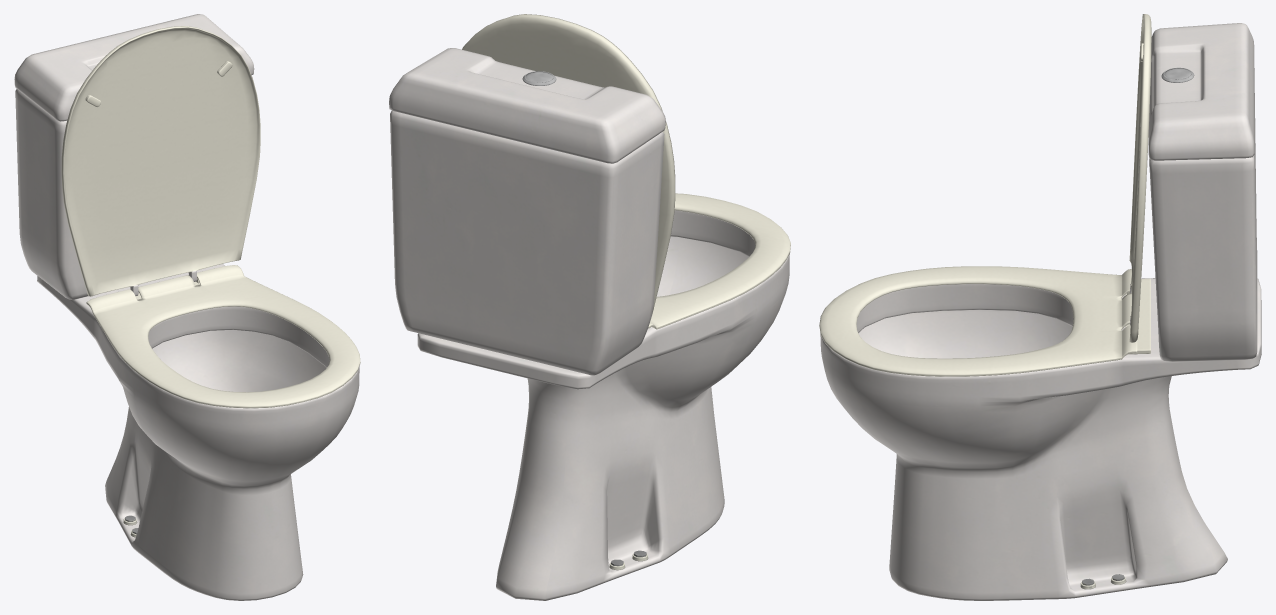
The model's file is toilet.glb.
The picture shows the model from 3 angles, left to right: view 1: azimuth 30°, elevation 25°; view 2: azimuth 150°, elevation 25°; view 3: azimuth 270°, elevation 25°; orthographic projection. The views are drawn at different scales.
Parts seen in each view (by area): view 1: 10778_Toilet_V2; view 2: 10778_Toilet_V2; view 3: 10778_Toilet_V2.
Boxes of the visible parts, bbox=[...] form: 10778_Toilet_V2: bbox=[14, 14, 360, 600]; 10778_Toilet_V2: bbox=[389, 14, 790, 600]; 10778_Toilet_V2: bbox=[819, 14, 1261, 600].
Bounding box in the file's own units: 14.78 × 34.54 × 25.43.
Materials: 1 (1 with a texture image).
